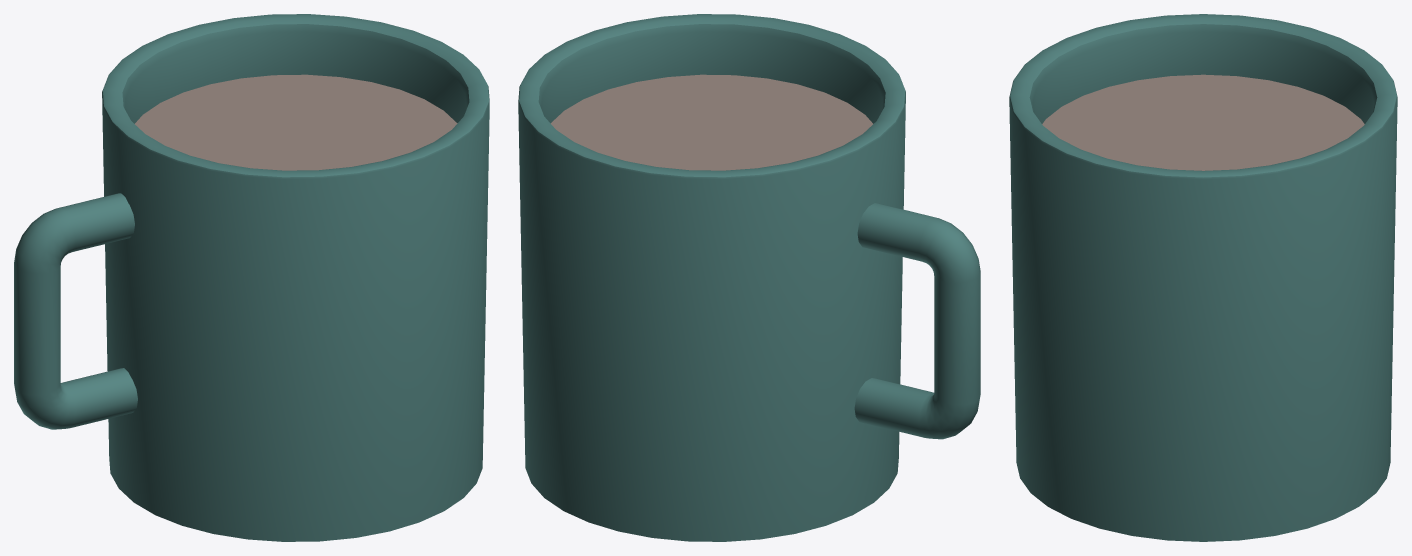
File: Cafe con leche.fbx
3 renders of one model, left to right at view 1: azimuth 30°, elevation 25°; view 2: azimuth 150°, elevation 25°; view 3: azimuth 270°, elevation 25°, orthographic.
Visible parts, largest first — view 1: Taza, Cafe con leche; view 2: Taza, Cafe con leche; view 3: Taza, Cafe con leche.
Part boxes in pixels (x1,y1,x2,y2): Taza: (14,14,489,541); Cafe con leche: (135,74,457,170); Taza: (518,14,980,541); Cafe con leche: (551,74,872,170); Taza: (1009,14,1397,541); Cafe con leche: (1042,74,1364,170).
Size of the model in its own units: 6.49 by 5.19 by 4.96.
